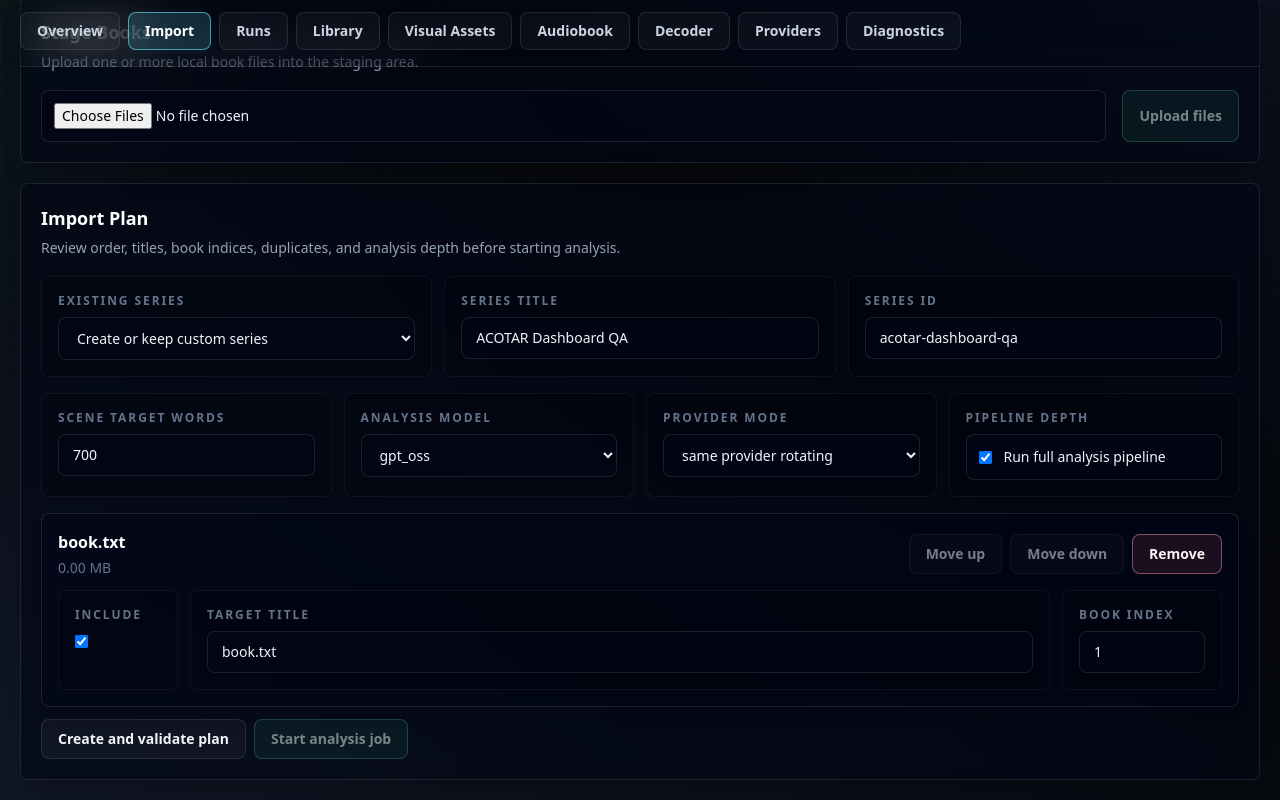
Test case: renders import workflow controls backed by upload and plan APIs
(page scrolled)
Expected: the heading "Stage Books" is shown, [41,20,151,44]
Expected: the text "book.txt" is shown, [58,530,126,554]
Click the button "Create and validate plan".
click(143, 739)  # box [41,719,246,759]
(page scrolled)
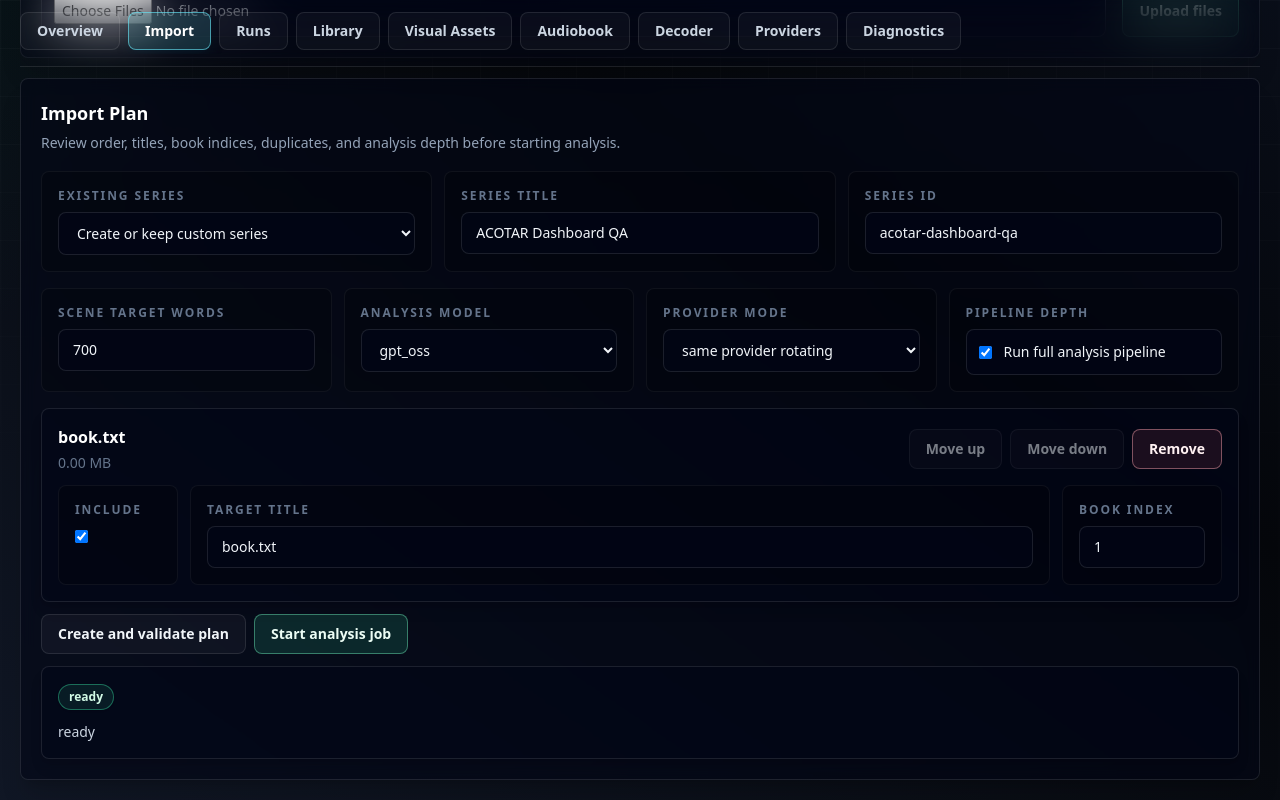
Result: the 1st text "ready" is shown at [69,689,103,705]
